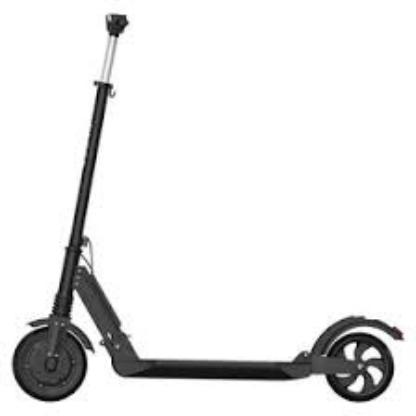bike: (11, 8, 411, 405)
